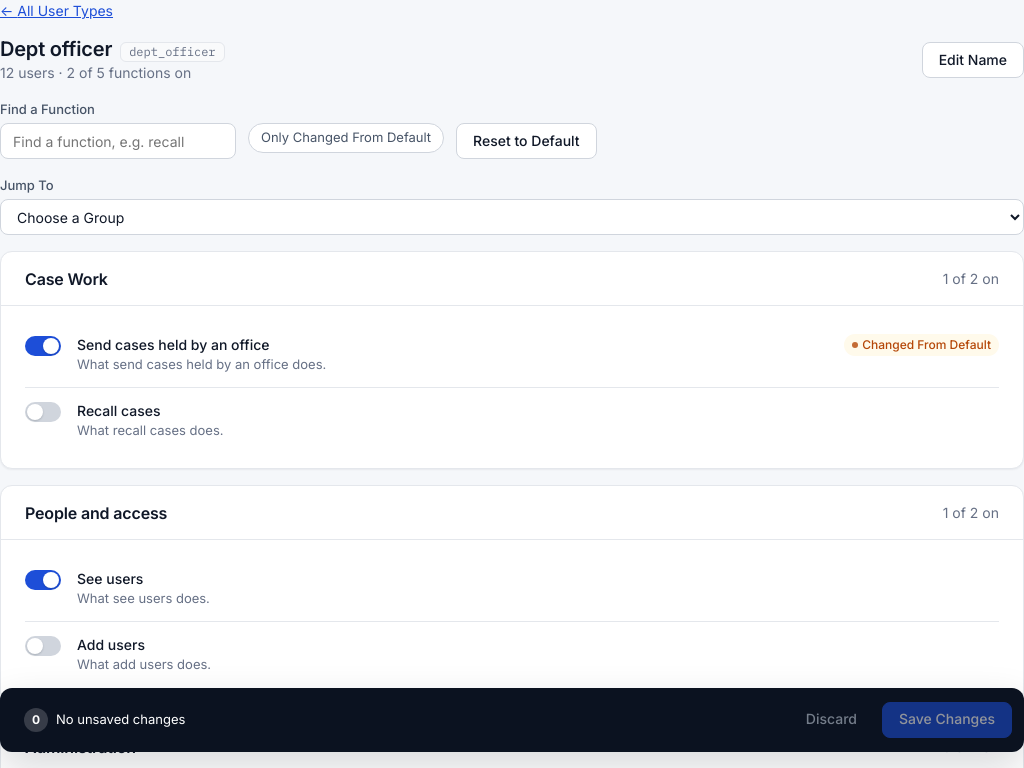
it: Edit Name (design portal-ui-polish-2, decisions 12 and 13) › counts the characters, warns about an empty or taken name and shows the server's 409 on the field
The width and height of the screenshot is (1024, 768).
Click the button "Edit Name".
click(973, 60)  # box [922, 42, 1023, 78]
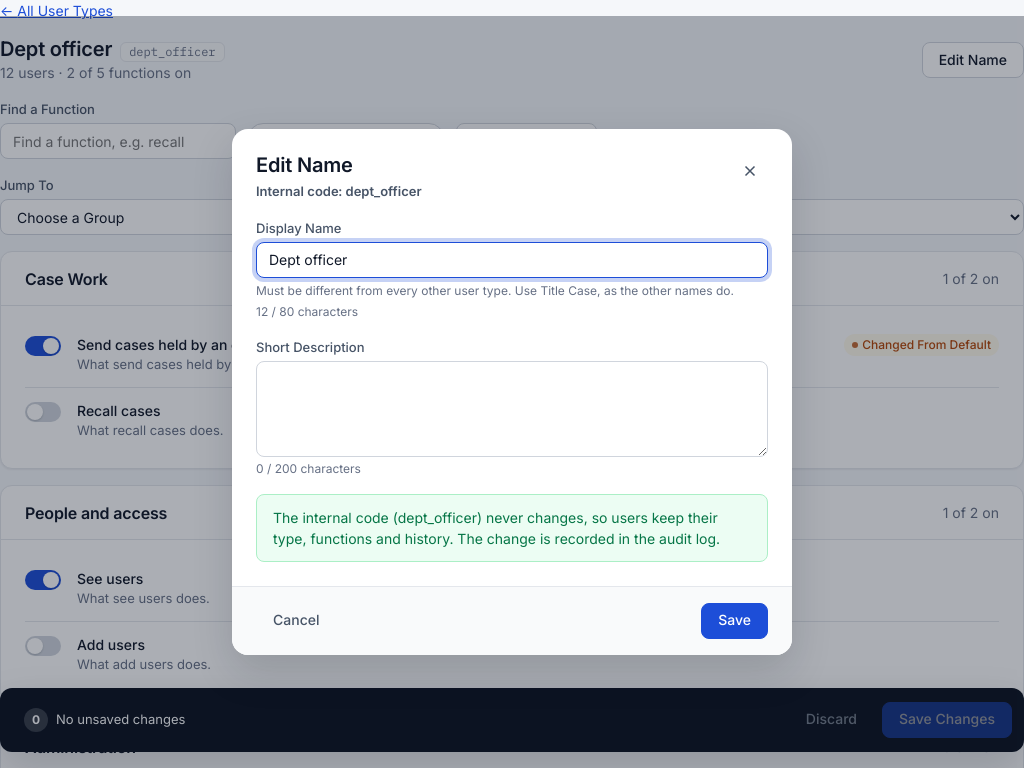
Expected: the text "Internal code: dept_officer" is shown, [256, 183, 422, 199]
Expected: the field labelled "Display Name" holds "Dept officer"
Expected: the text "12 / 80 characters" is shown, [256, 304, 358, 319]
Clear the field labelled "Display Name" at (512,260), box [256, 242, 768, 278]
Click the button "Save".
click(735, 621)  # box [701, 603, 768, 639]
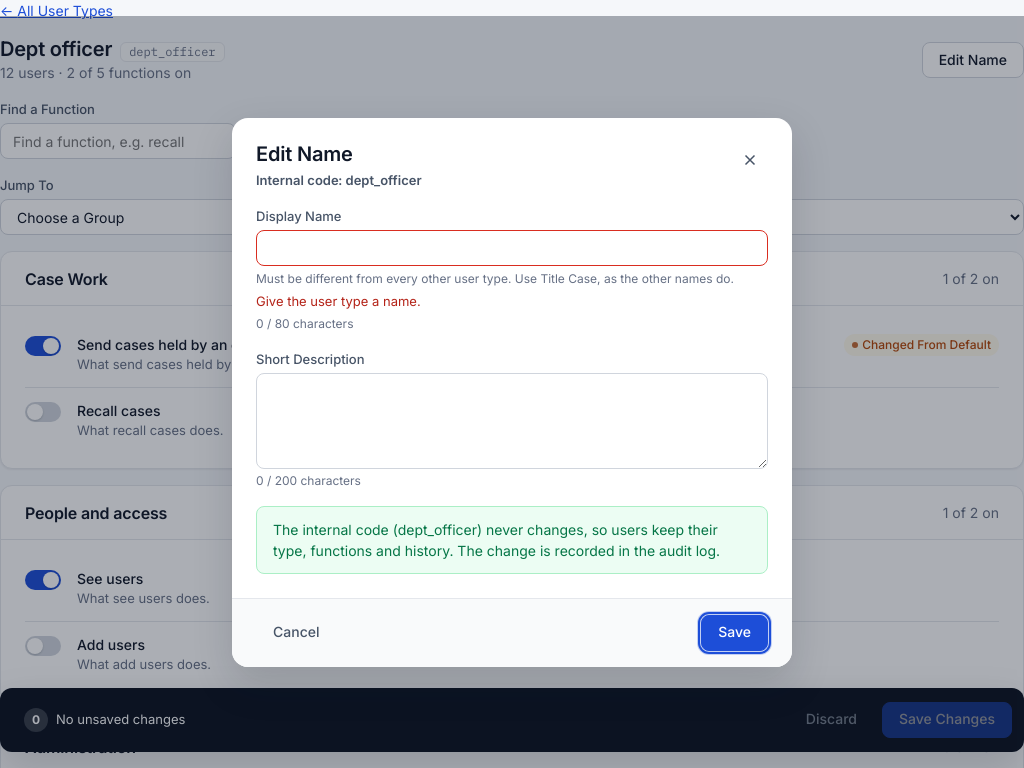
Expected: the text "Give the user type a name." is shown, [256, 293, 421, 309]
another type's name, without regard to case, is warned about before sending
Type "auditor" into the field labelled "Display Name".
click(512, 248); type("auditor")  # box [256, 230, 768, 266]
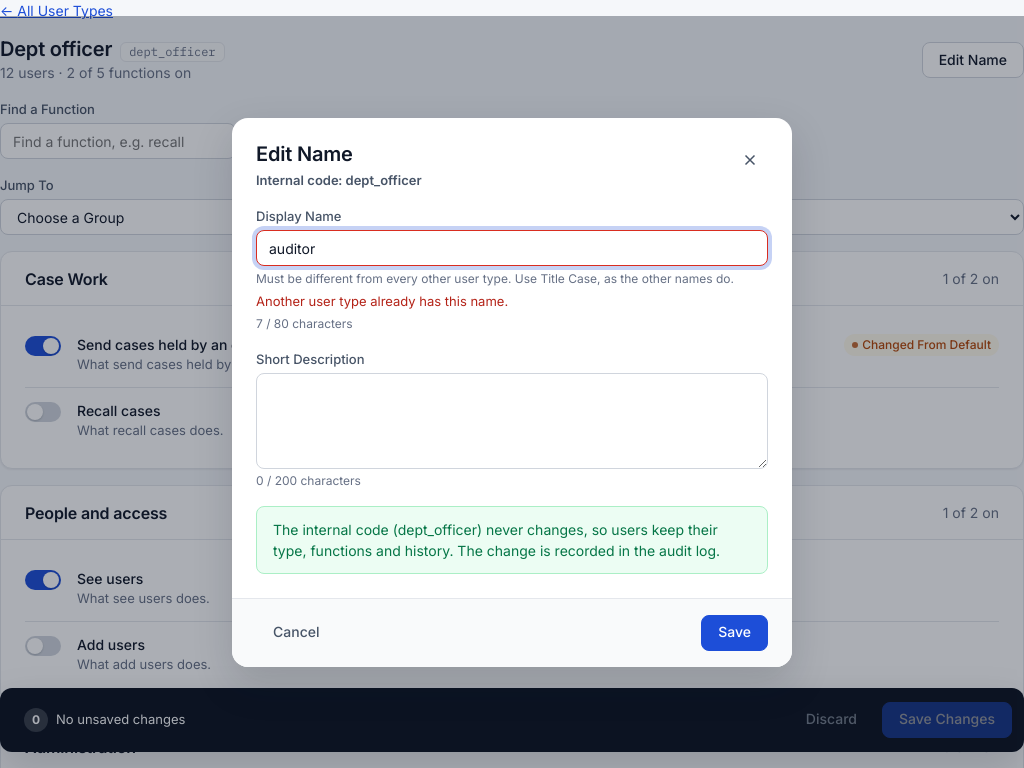
Expected: the text "Another user type already has this name." is shown, [256, 293, 508, 309]
Click the button "Save".
click(735, 632)  # box [701, 614, 768, 650]
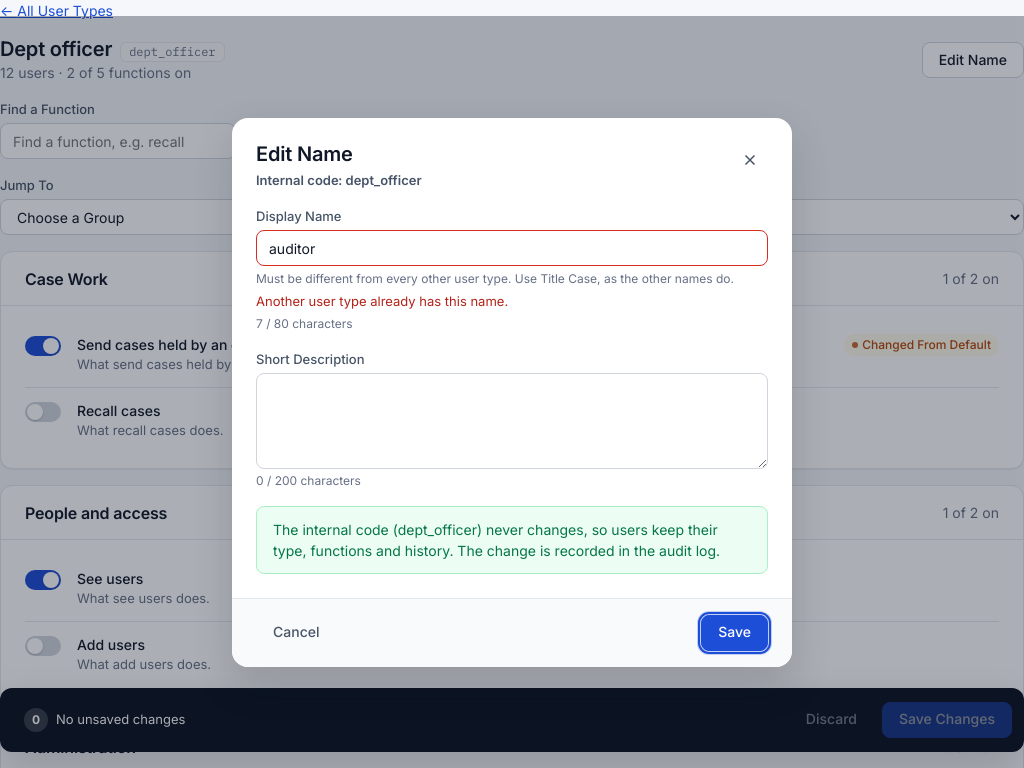
a clash only the server sees is shown on the field too
Replace the text in the field labelled "Display Name" with "Officer of the Day" at (512,248), box [256, 230, 768, 266]
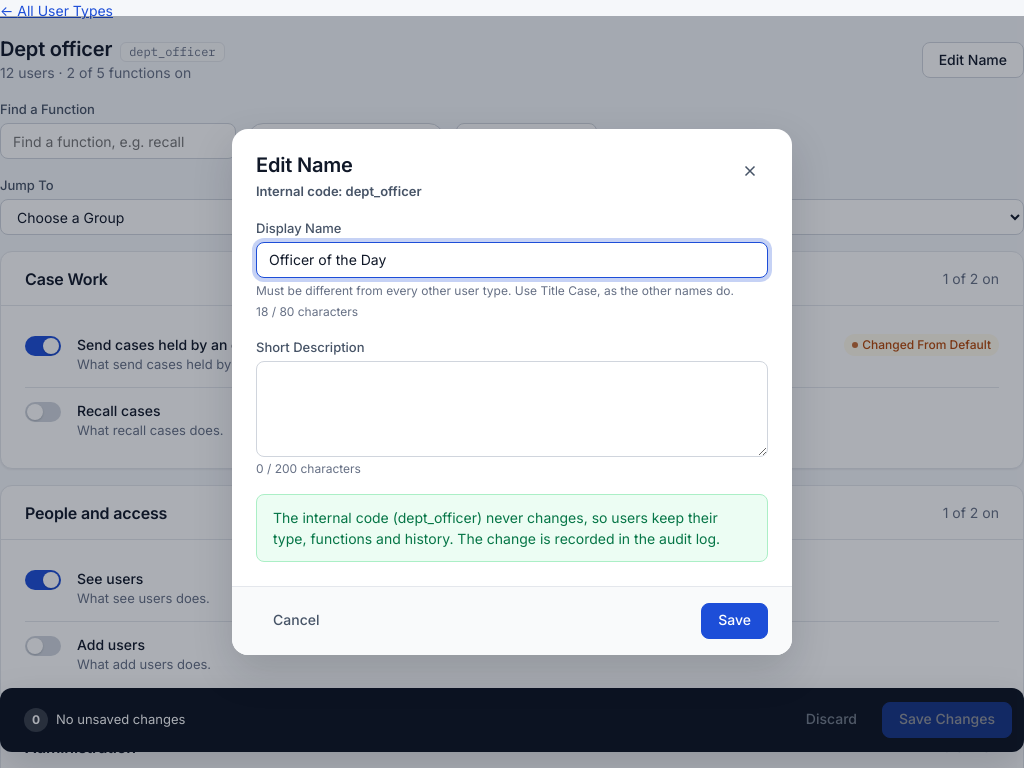
Expected: the text "Another user type already has this name." is not shown
Click the button "Save".
click(735, 621)  # box [701, 603, 768, 639]
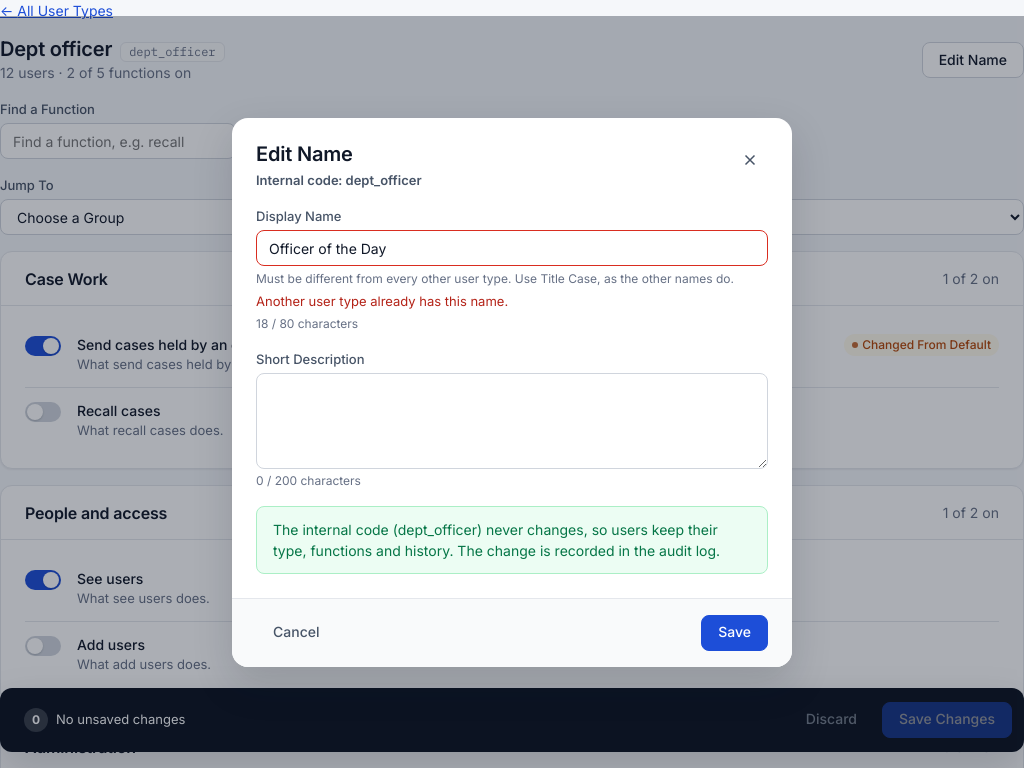
Expected: the text "Another user type already has this name." is shown, [256, 293, 508, 309]
